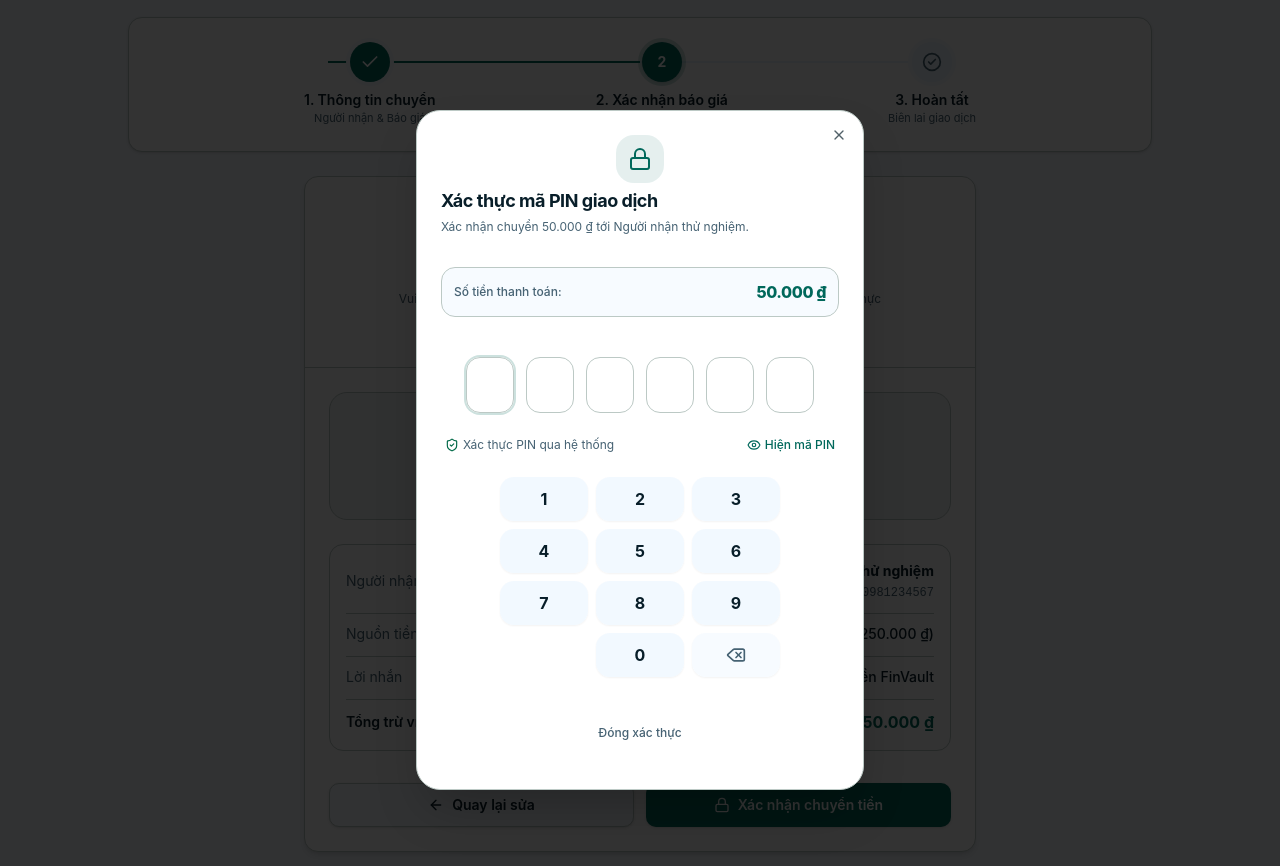
Test: TransferPage Bước 2 - Checkout, PIN, Confirm [K19-2] › token hết hạn nhưng đơn đã SUCCESS: hiện biên lai, không yêu cầu PIN lần hai
Earlier steps of the test are not shown.
(page scrolled)
Check: the heading "Xác thực mã PIN giao dịch" is shown, box left=441, top=190, right=658, bottom=211
Click the button "1".
click(544, 499)  # box left=500, top=477, right=588, bottom=521
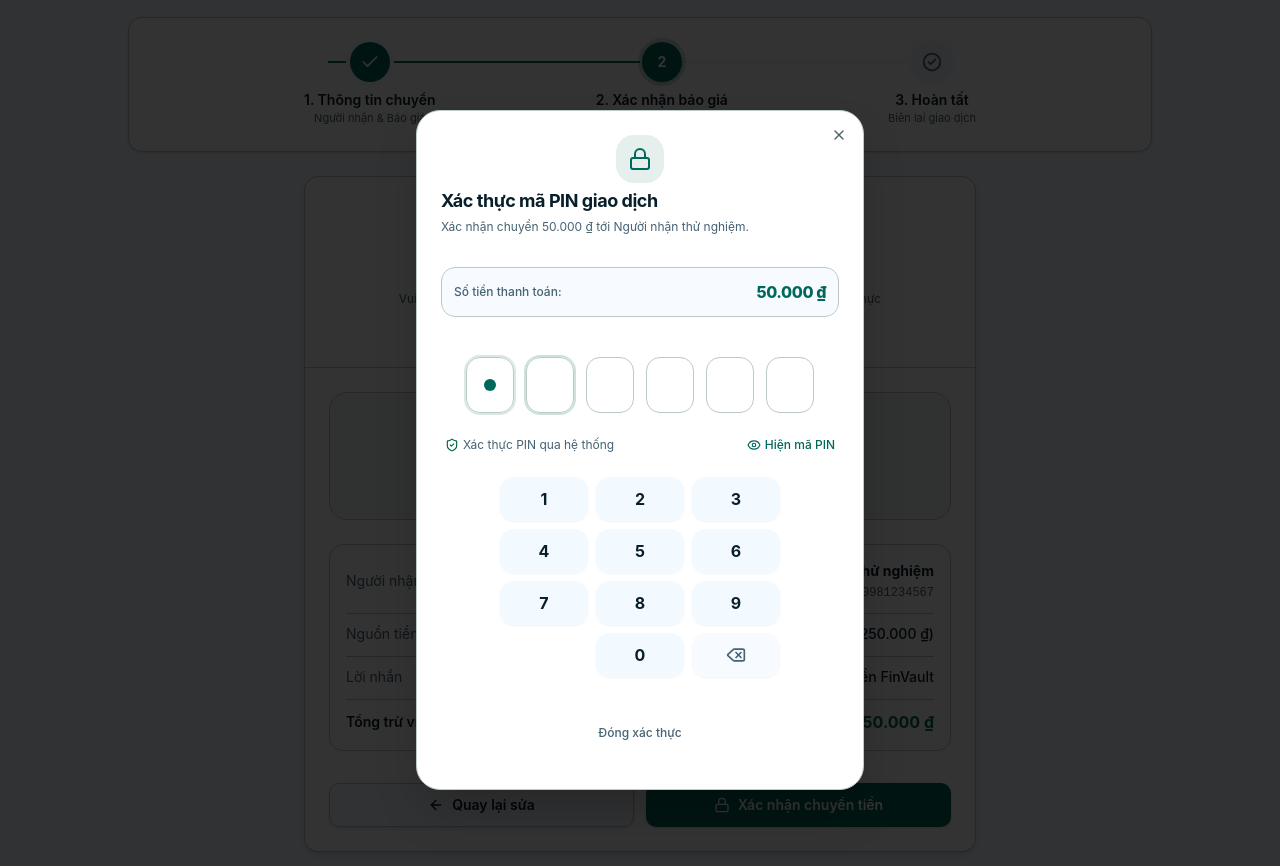
Click the button "1".
click(544, 499)  # box left=500, top=477, right=588, bottom=521
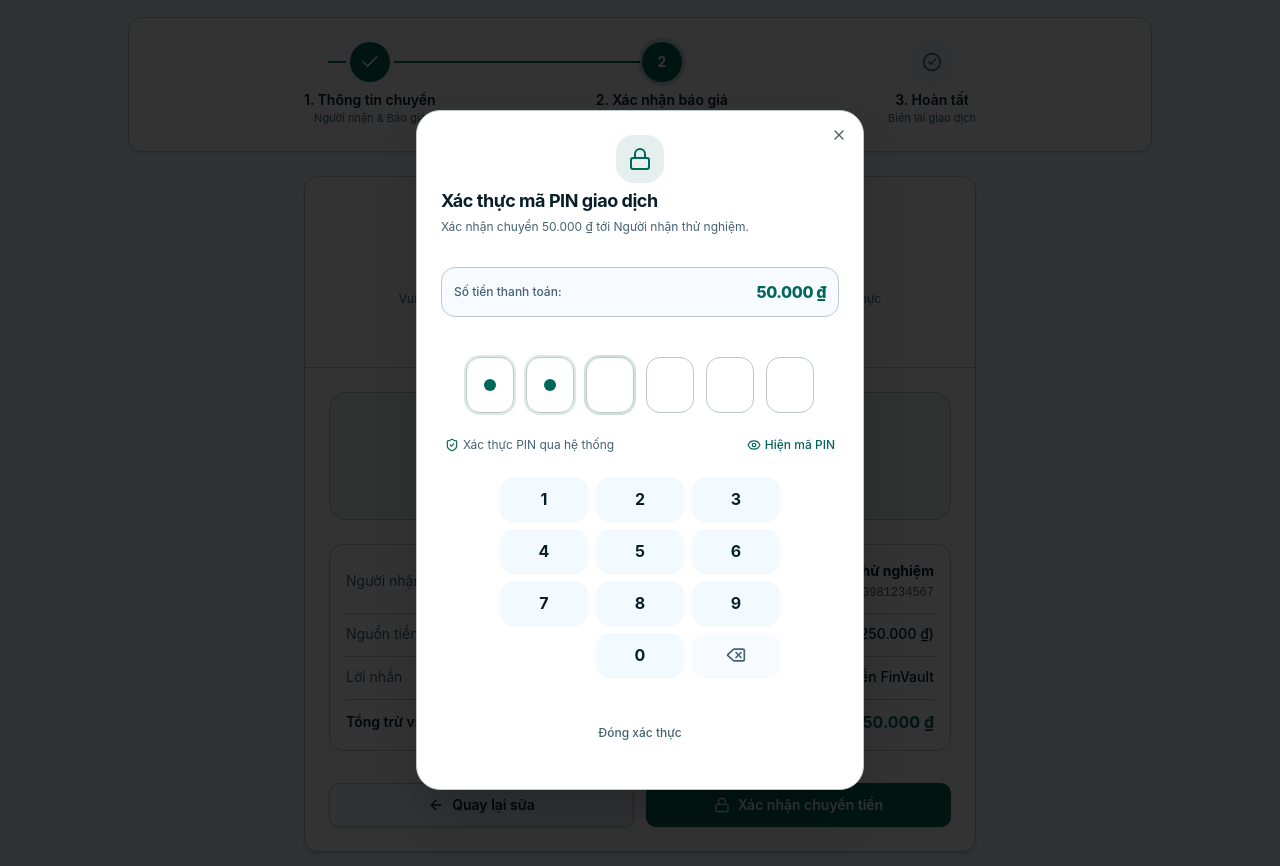
Click the button "1".
click(544, 499)  # box left=500, top=477, right=588, bottom=521
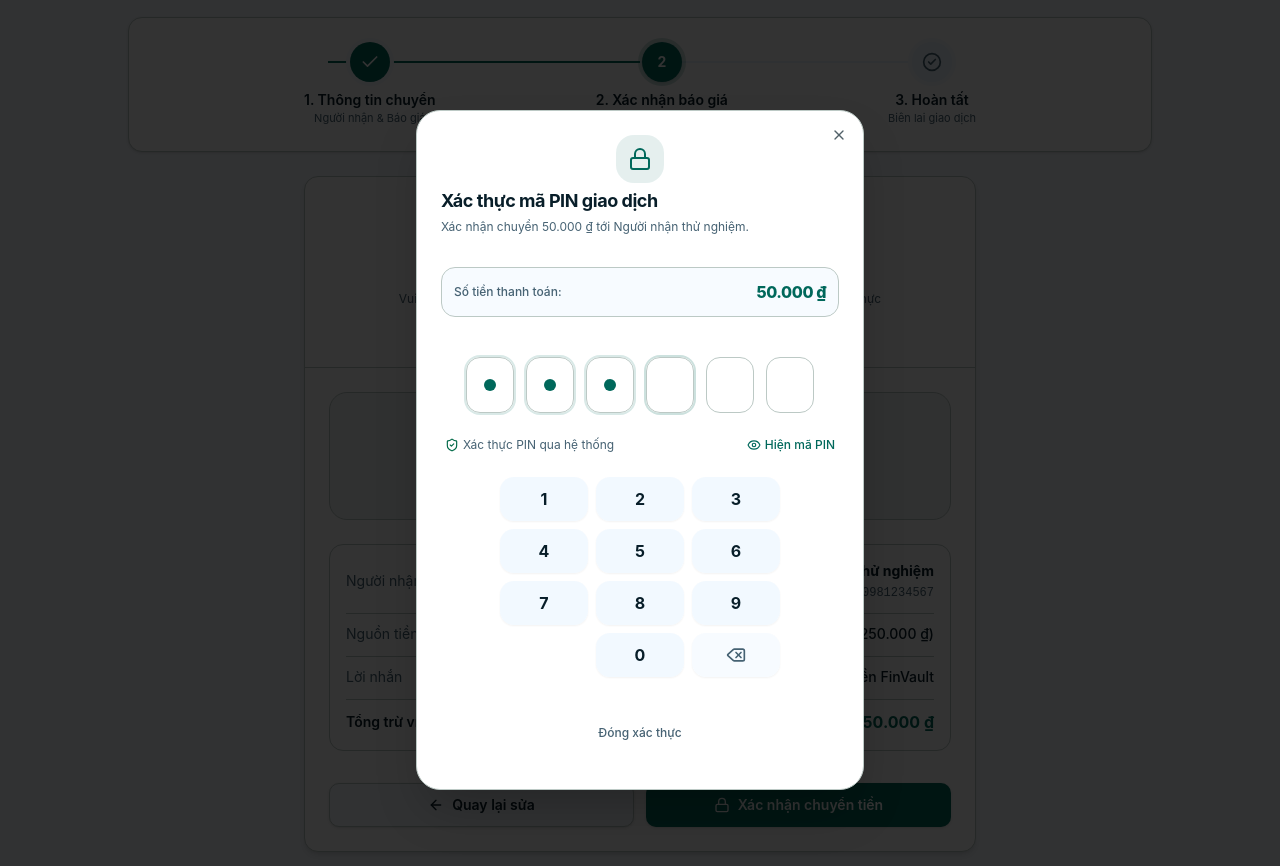
Click the button "1".
click(544, 499)  # box left=500, top=477, right=588, bottom=521
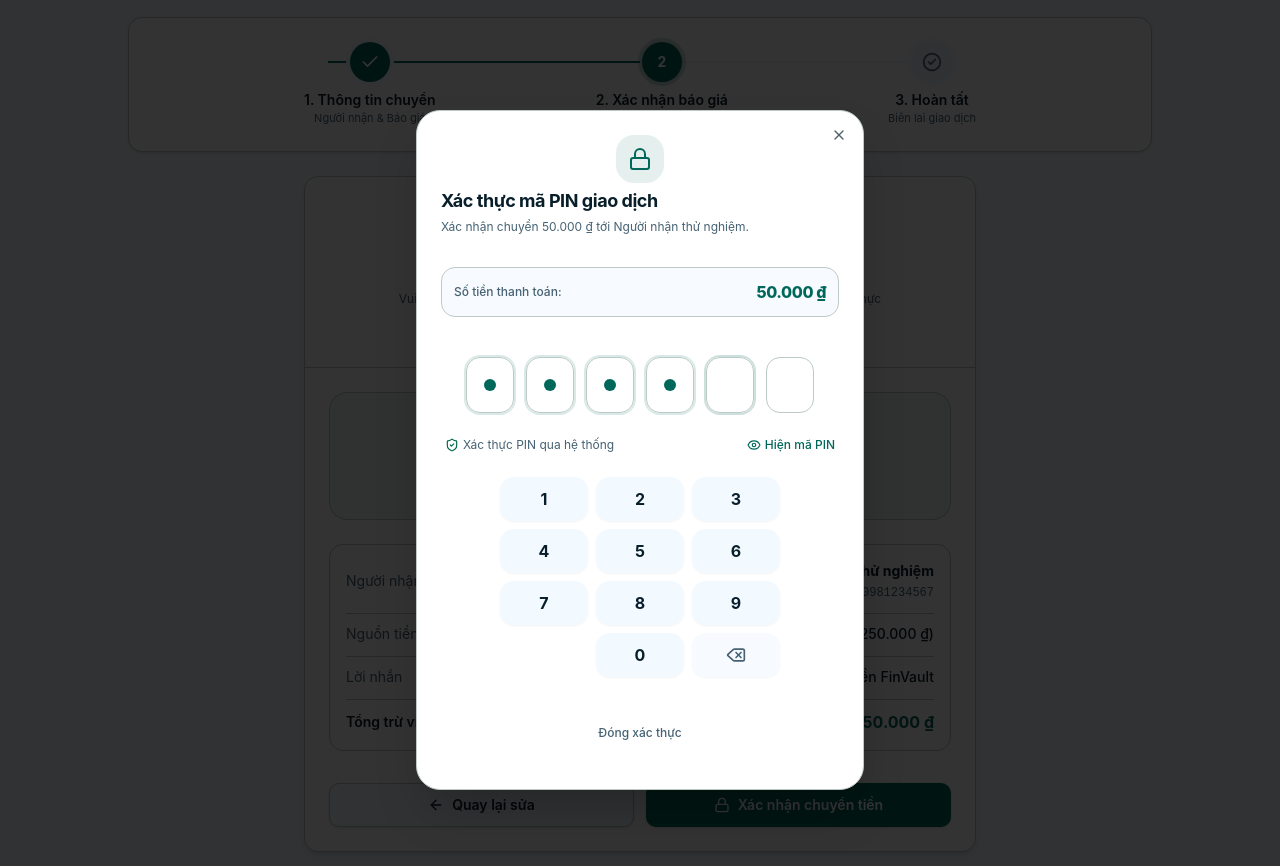
Click the button "1".
click(544, 499)  # box left=500, top=477, right=588, bottom=521
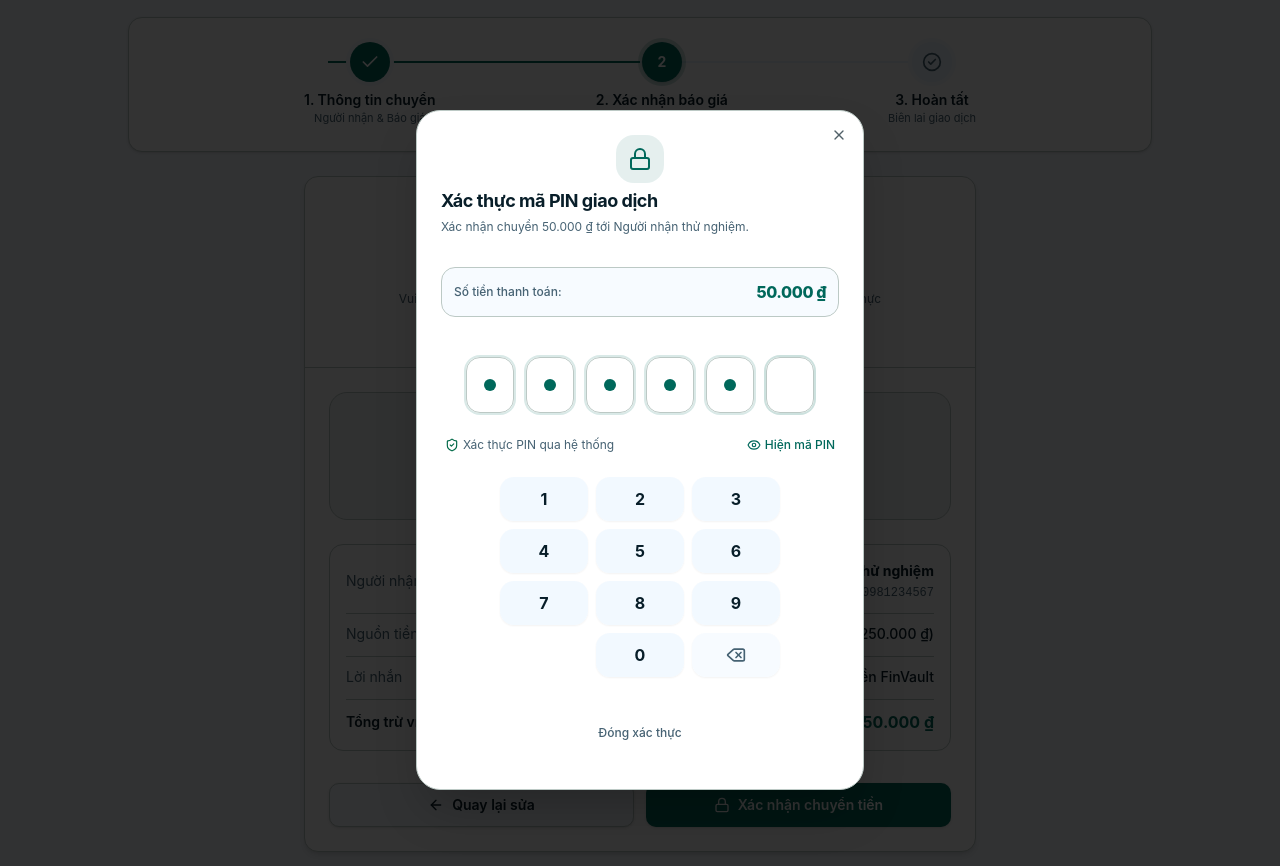
Click the button "1".
click(544, 499)  # box left=500, top=477, right=588, bottom=521
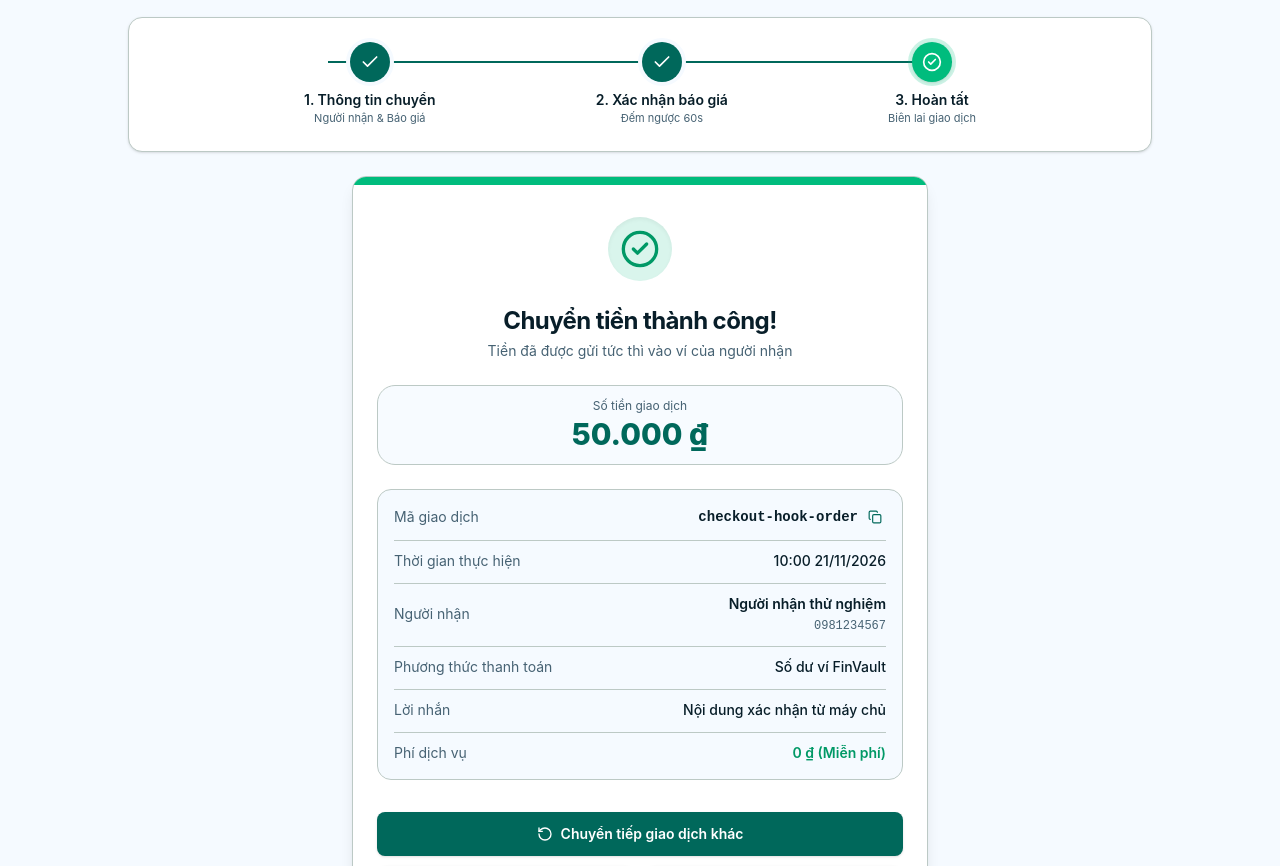
Check: the heading "Chuyển tiền thành công!" is shown, box left=503, top=306, right=777, bottom=334
Check: the dialog is gone
